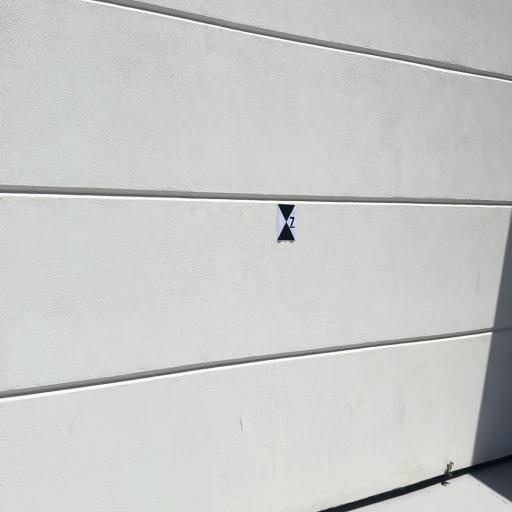target7: (276, 203, 296, 242)
